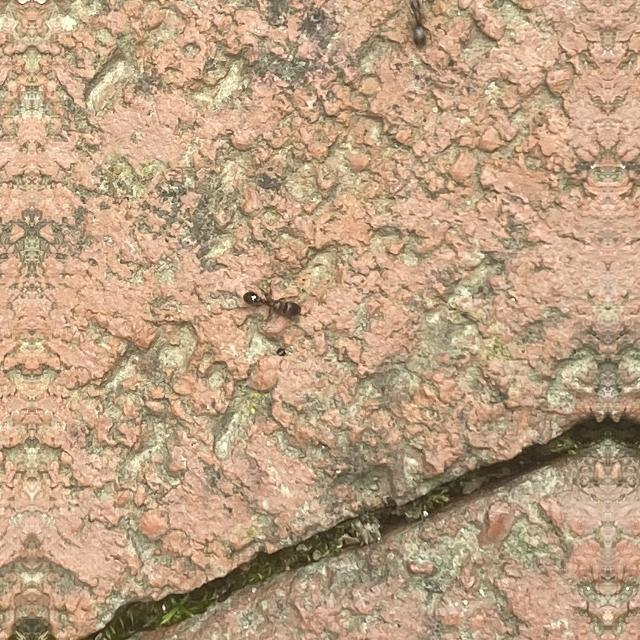Temnothorax: (243, 282, 307, 324)
